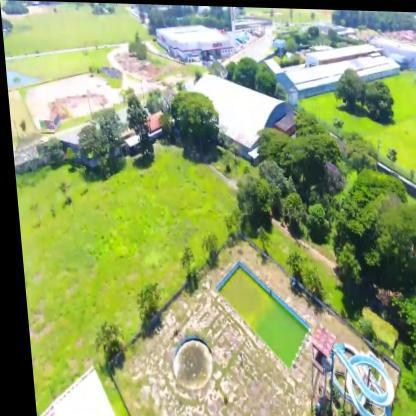agua: (253, 311, 303, 371), (214, 272, 265, 321), (166, 342, 212, 392)
